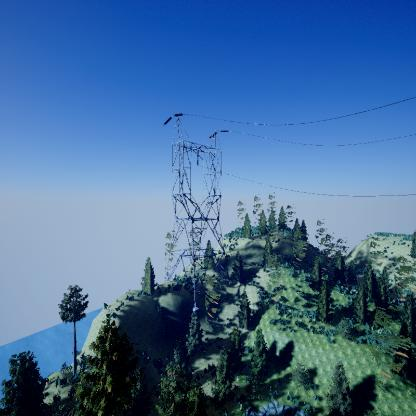tower: (161, 109, 234, 313)
